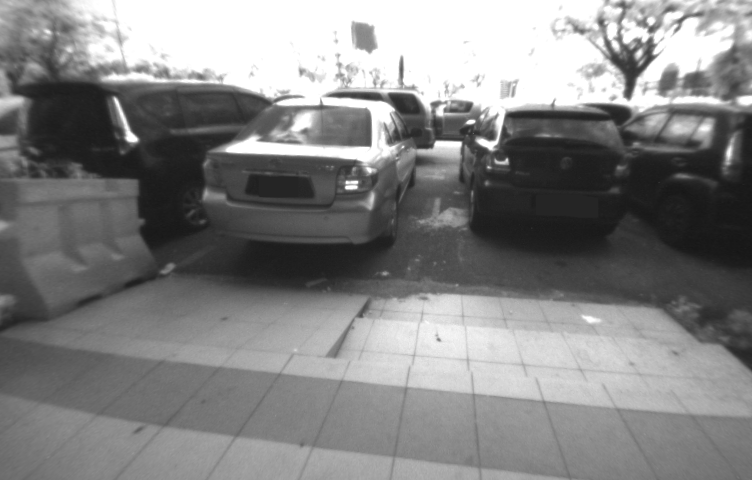down_steps: (336, 287, 747, 382)
mixed_gradient: (288, 282, 392, 373)
